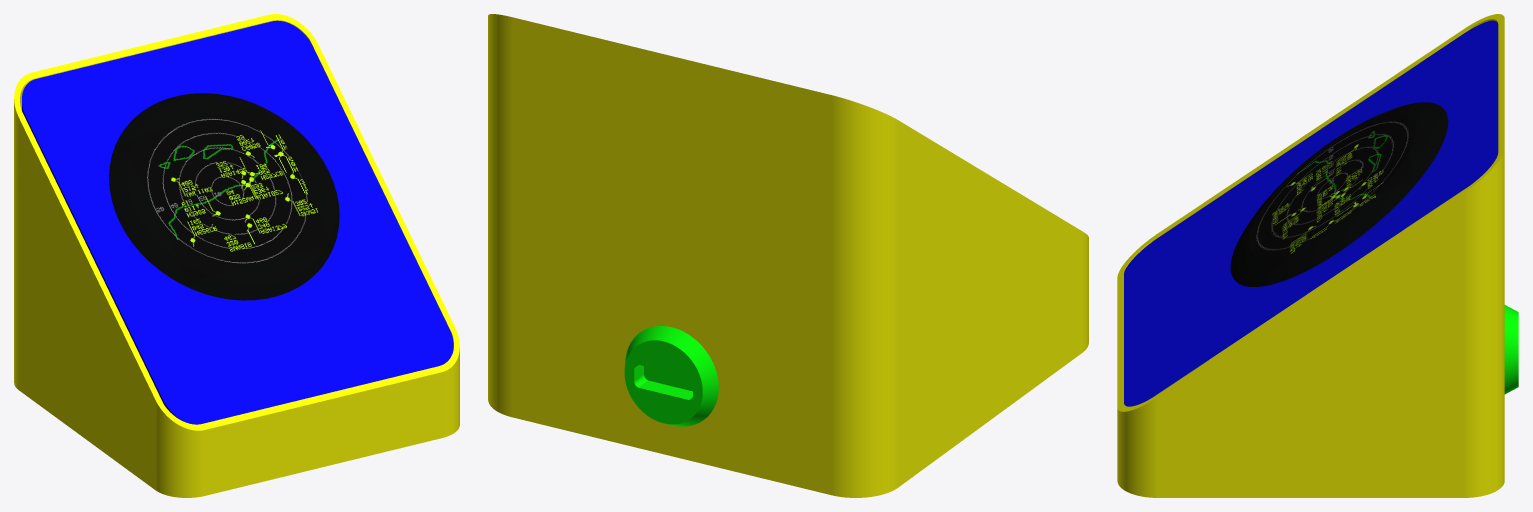
The model's file is radar_v15_both.glb.
3 renders of one model, left to right at view 1: azimuth 30°, elevation 25°; view 2: azimuth 150°, elevation 25°; view 3: azimuth 270°, elevation 25°, orthographic. The views are drawn at different scales.
Visible parts, largest first — view 1: Part 1.001, body, screen; view 2: body, plug; view 3: body, Part 1.001, screen, plug.
Part boxes in pixels (box(x1,y1,x2,y2)): Part 1.001: box(22, 20, 453, 424); body: box(14, 14, 459, 497); screen: box(109, 93, 339, 300); body: box(488, 14, 1088, 497); plug: box(624, 326, 718, 426); body: box(1117, 14, 1504, 497); Part 1.001: box(1124, 20, 1498, 406); screen: box(1230, 102, 1448, 286); plug: box(1504, 305, 1518, 394).
Size of the model in its own units: 0.0603 by 0.0571 by 0.0625.
Materials: 5 (2 with a texture image).
